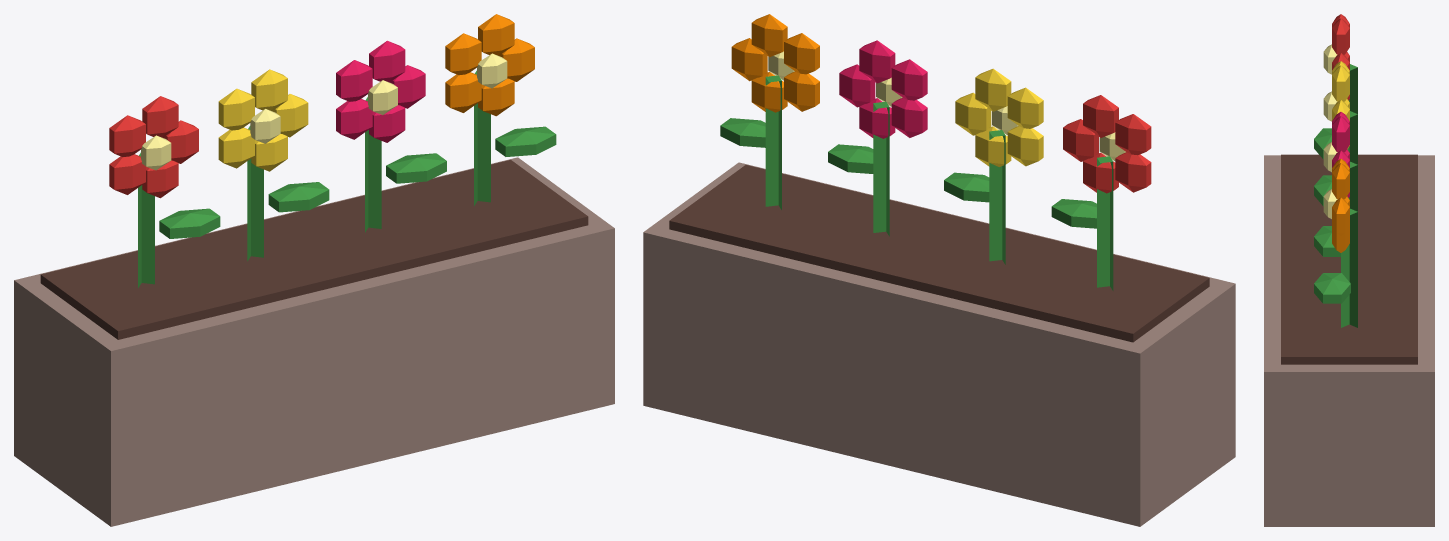
File: blomlada.glb
3 views of the same model, side by side, from view 1: azimuth 30°, elevation 25°; view 2: azimuth 150°, elevation 25°; view 3: azimuth 270°, elevation 25° (orthographic). The views are drawn at different scales.
Parts seen in each view (by area): view 1: blomlada; view 2: blomlada; view 3: blomlada.
Part boxes in pixels (box(x1,y1,x2,y2)): blomlada: box(14, 14, 614, 526); blomlada: box(643, 14, 1235, 526); blomlada: box(1264, 14, 1434, 526).
Size of the model in its own units: 0.6 by 0.4283 by 0.2.
